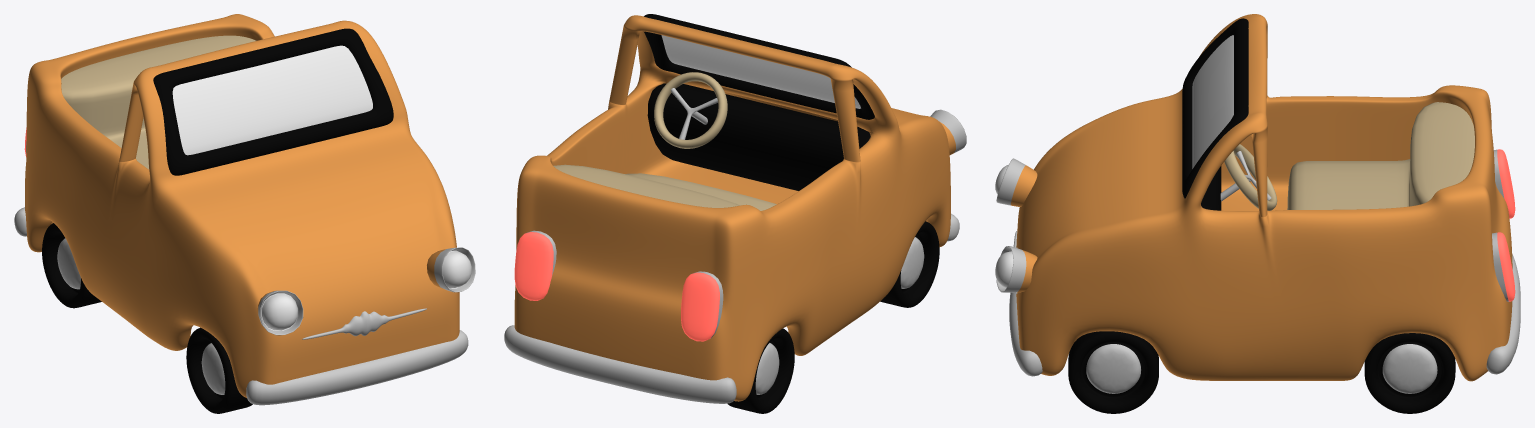
File: car.fbx
3 views of the same model, side by side, from view 1: azimuth 30°, elevation 25°; view 2: azimuth 150°, elevation 25°; view 3: azimuth 270°, elevation 25° (orthographic). The views are drawn at different scales.
Visible parts, largest first — view 1: Cube, Cube.003, Cube.002, Cube.009, Cube.007, Cube.005, roue, roue.001, Cube.006; view 2: Cube, Cube.010, Cube.008, Cube.004, Cube.003, Cube.009, Cube.002, roue.001, roue, Circle, Cube.005, Cube.011; view 3: Cube, Cube.009, roue, roue.001, Cube.002, Cube.003, Cube.005, Cube.004, Cube.008, Circle, Cube.007, Cube.010.
Boxes of the visible parts, bbox=[...] form: Cube: bbox=[25, 14, 459, 397]; Cube.003: bbox=[172, 45, 372, 155]; Cube.002: bbox=[153, 28, 393, 175]; Cube.009: bbox=[61, 35, 256, 169]; Cube.007: bbox=[246, 330, 468, 405]; Cube.005: bbox=[257, 247, 475, 335]; roue: bbox=[186, 327, 252, 413]; roue.001: bbox=[42, 223, 101, 308]; Cube.006: bbox=[302, 308, 426, 339]; Cube: bbox=[514, 15, 950, 401]; Cube.010: bbox=[647, 83, 870, 190]; Cube.008: bbox=[504, 325, 736, 403]; Cube.004: bbox=[514, 230, 723, 341]; Cube.003: bbox=[661, 35, 860, 108]; Cube.009: bbox=[553, 164, 776, 210]; Cube.002: bbox=[644, 14, 874, 119]; roue.001: bbox=[727, 328, 794, 413]; roue: bbox=[880, 221, 939, 307]; Circle: bbox=[654, 72, 727, 148]; Cube.005: bbox=[930, 109, 966, 154]; Cube.011: bbox=[670, 88, 717, 139]; Cube: bbox=[1016, 14, 1512, 381]; Cube.009: bbox=[1287, 102, 1474, 209]; roue: bbox=[1068, 331, 1158, 413]; roue.001: bbox=[1364, 333, 1455, 413]; Cube.002: bbox=[1182, 18, 1248, 198]; Cube.003: bbox=[1192, 35, 1233, 168]; Cube.005: bbox=[995, 158, 1037, 292]; Cube.004: bbox=[1492, 149, 1515, 301]; Cube.008: bbox=[1486, 254, 1520, 374]; Circle: bbox=[1224, 144, 1277, 210]; Cube.007: bbox=[1009, 292, 1042, 376]; Cube.010: bbox=[1201, 166, 1221, 210].
Bounding box in the file's own units: 282 × 301 × 485.
